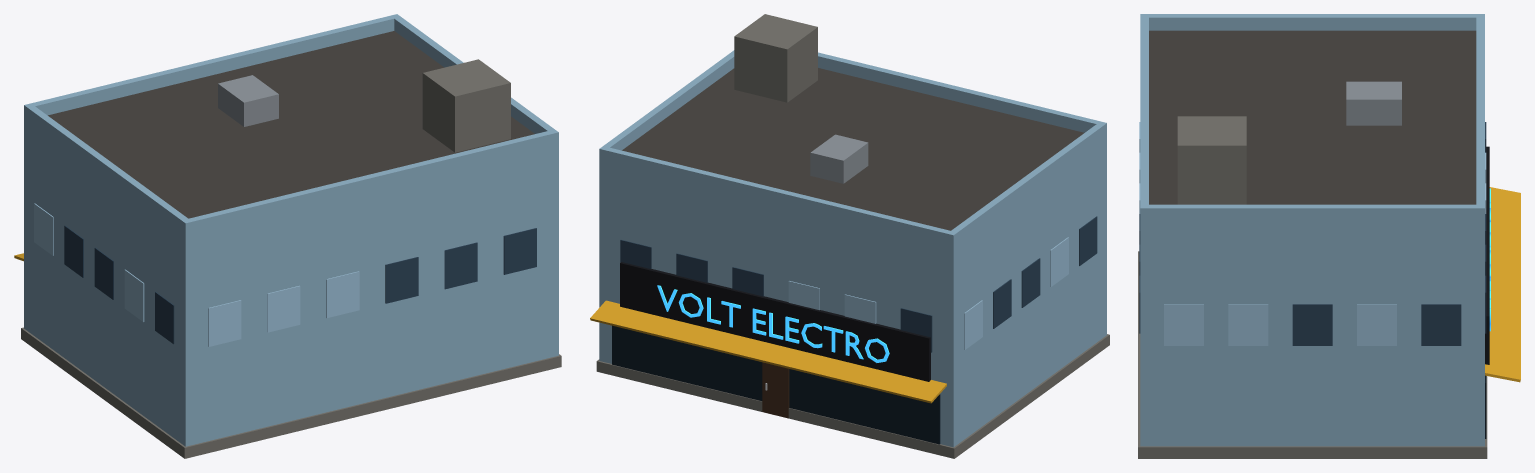
Rendered from bld_shop_c.glb.
3 renders of one model, left to right at view 1: azimuth 30°, elevation 25°; view 2: azimuth 150°, elevation 25°; view 3: azimuth 270°, elevation 25°, orthographic. The views are drawn at different scales.
Visible parts, largest first — view 1: bld_shop_c__mesh; view 2: bld_shop_c__mesh, bld_shop_c__signboard, bld_shop_c__sign; view 3: bld_shop_c__mesh, bld_shop_c__signboard.
Part boxes in pixels (<box>): bld_shop_c__mesh: <box>14,14,561,458</box>; bld_shop_c__mesh: <box>590,14,1109,458</box>; bld_shop_c__signboard: <box>620,262,930,381</box>; bld_shop_c__sign: <box>657,285,889,362</box>; bld_shop_c__mesh: <box>1138,14,1520,458</box>; bld_shop_c__signboard: <box>1485,146,1489,364</box>.
Size of the model in its own units: 16.16 by 11.4 by 13.33.
